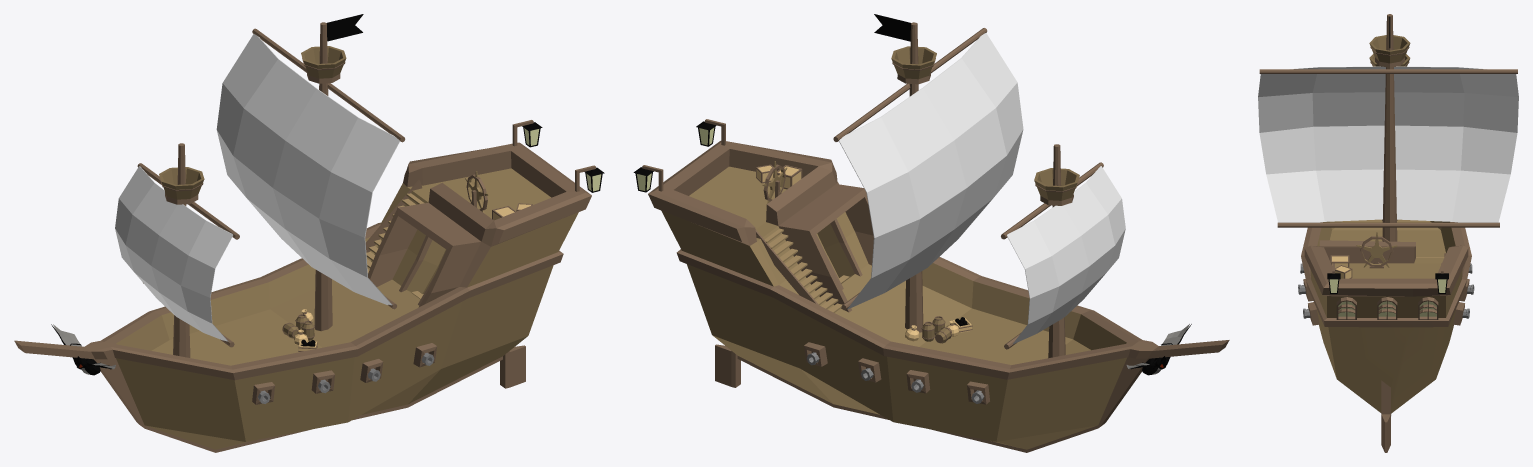
File: main_boat_from_over_the_seas_ggj17.glb
3 views of the same model, side by side, from view 1: azimuth 30°, elevation 25°; view 2: azimuth 150°, elevation 25°; view 3: azimuth 270°, elevation 25° (orthographic). The views are drawn at different scales.
Parts seen in each view (by area): view 1: Eslora_MaderaBarco_0, Eslora_Quilla_0, VelaMayor_Velas_0, VelaDeProa_Velas_0, MastilPrincipal_Quilla_0, object 16, NidoVistaVelaMayor_NidoVista_0, NidoVista_NidoVista_0, MastilDeProa_Quilla_0, PalaTimon_Quilla_0, Bandera, object 14; view 2: Eslora_MaderaBarco_0, VelaMayor_Velas_0, Eslora_Quilla_0, VelaDeProa_Velas_0, Escaleras_Escaleras_0, MastilPrincipal_Quilla_0, object 16, NidoVistaVelaMayor_NidoVista_0, NidoVista_NidoVista_0, MastilDeProa_Quilla_0, PalaTimon_Quilla_0, PlanchaEscaleras_Quilla_0 (+2 smaller); view 3: VelaMayor_Velas_0, Eslora_MaderaBarco_0, Eslora_Quilla_0, object 16, MastilPrincipal_Quilla_0, Ventana_Quilla_0, NidoVistaVelaMayor_NidoVista_0, PalaTimon_Quilla_0, Cristales_Cristales_0, Timon_MaderaBarco_0, RuedaTimon_Quilla_0.
Part boxes in pixels (bbox=[...]): Eslora_MaderaBarco_0: bbox=[116, 168, 578, 449]; Eslora_Quilla_0: bbox=[14, 142, 591, 452]; VelaMayor_Velas_0: bbox=[216, 34, 399, 305]; VelaDeProa_Velas_0: bbox=[115, 166, 232, 341]; MastilPrincipal_Quilla_0: bbox=[314, 22, 332, 331]; object 16: bbox=[252, 28, 405, 309]; NidoVistaVelaMayor_NidoVista_0: bbox=[301, 46, 346, 78]; NidoVista_NidoVista_0: bbox=[159, 167, 204, 199]; MastilDeProa_Quilla_0: bbox=[173, 143, 190, 357]; PalaTimon_Quilla_0: bbox=[500, 345, 525, 388]; Bandera: bbox=[326, 14, 363, 41]; object 14: bbox=[137, 163, 239, 347]; Eslora_MaderaBarco_0: bbox=[661, 166, 1126, 449]; VelaMayor_Velas_0: bbox=[839, 33, 1023, 309]; Eslora_Quilla_0: bbox=[648, 141, 1229, 452]; VelaDeProa_Velas_0: bbox=[1006, 166, 1125, 343]; Escaleras_Escaleras_0: bbox=[764, 228, 849, 312]; MastilPrincipal_Quilla_0: bbox=[905, 22, 923, 332]; object 16: bbox=[833, 28, 987, 310]; NidoVistaVelaMayor_NidoVista_0: bbox=[891, 46, 936, 79]; NidoVista_NidoVista_0: bbox=[1034, 168, 1079, 200]; MastilDeProa_Quilla_0: bbox=[1048, 144, 1065, 358]; PalaTimon_Quilla_0: bbox=[715, 344, 740, 387]; PlanchaEscaleras_Quilla_0: bbox=[755, 229, 818, 304]; VelaMayor_Velas_0: bbox=[1258, 66, 1518, 222]; Eslora_MaderaBarco_0: bbox=[1310, 219, 1462, 413]; Eslora_Quilla_0: bbox=[1301, 222, 1471, 327]; object 16: bbox=[1259, 69, 1517, 227]; MastilPrincipal_Quilla_0: bbox=[1382, 14, 1397, 241]; Ventana_Quilla_0: bbox=[1336, 297, 1438, 319]; NidoVistaVelaMayor_NidoVista_0: bbox=[1369, 35, 1410, 63]; PalaTimon_Quilla_0: bbox=[1381, 380, 1390, 452]; Cristales_Cristales_0: bbox=[1338, 301, 1436, 316]; Timon_MaderaBarco_0: bbox=[1356, 231, 1397, 267]; RuedaTimon_Quilla_0: bbox=[1360, 236, 1393, 266].
Bounding box in the file's own units: 246 × 172 × 115.
